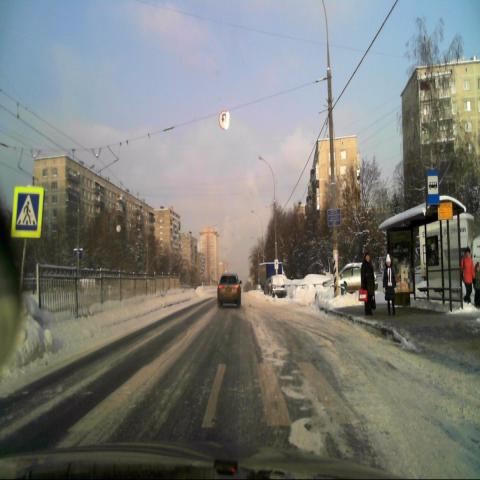3_19: (218, 109, 231, 130)
5_16: (427, 171, 439, 206)
